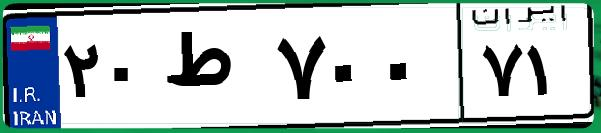0: (385, 28, 445, 110), (330, 28, 385, 110), (110, 28, 158, 98)
1: (525, 38, 570, 115)
2: (57, 26, 110, 100)
7: (270, 28, 330, 110), (475, 38, 525, 113)
ط: (158, 20, 270, 120)
